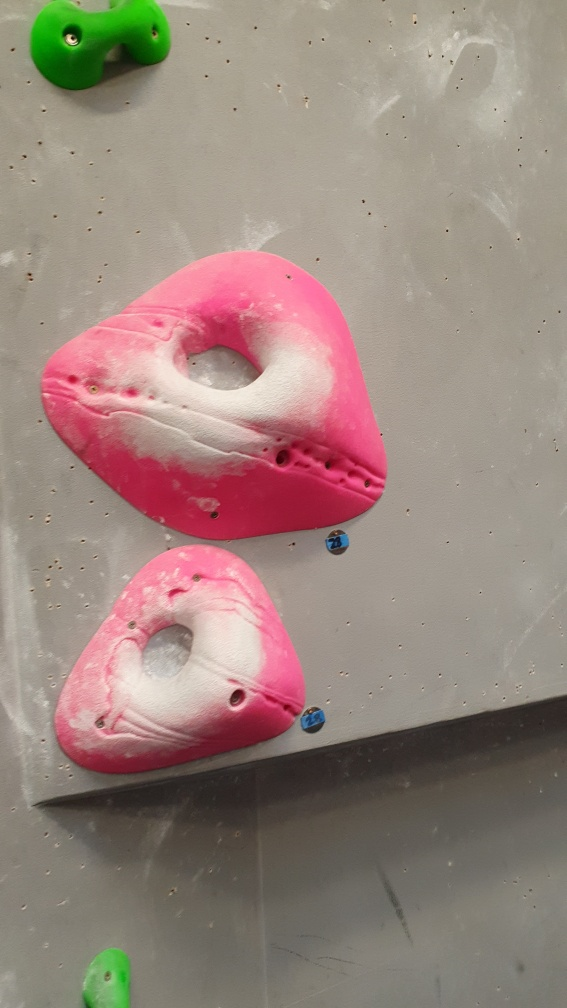Hand Start: (294, 702, 335, 737), (321, 525, 356, 565)
Pocket: (42, 246, 389, 547), (49, 543, 306, 780)
